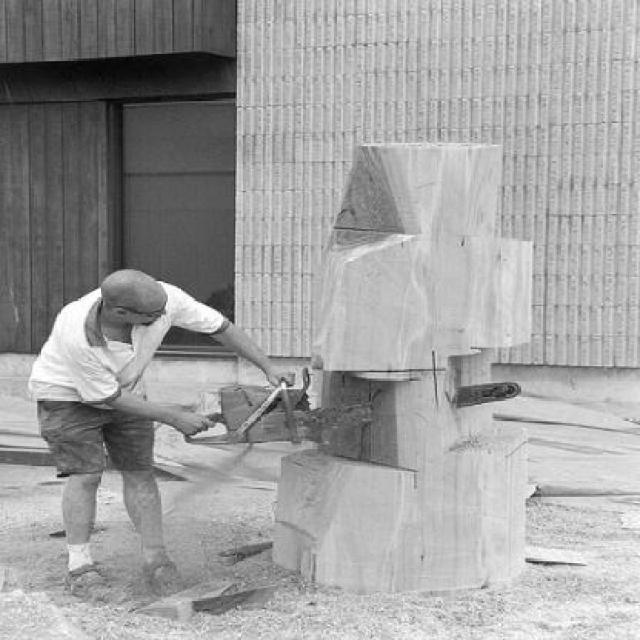Chainsaw: (185, 371, 522, 446)
